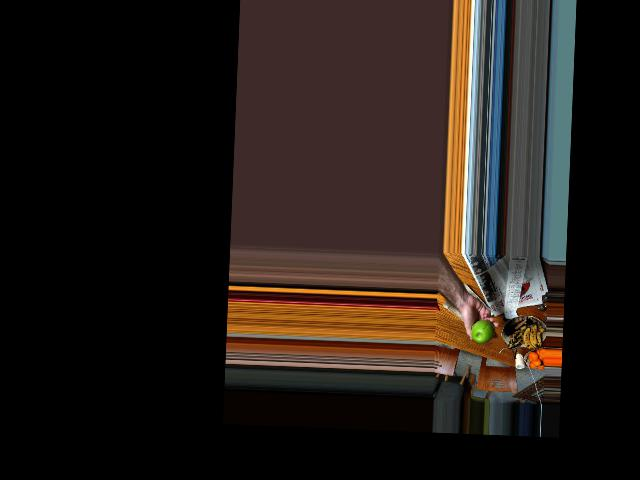apple: (470, 317, 494, 344)
